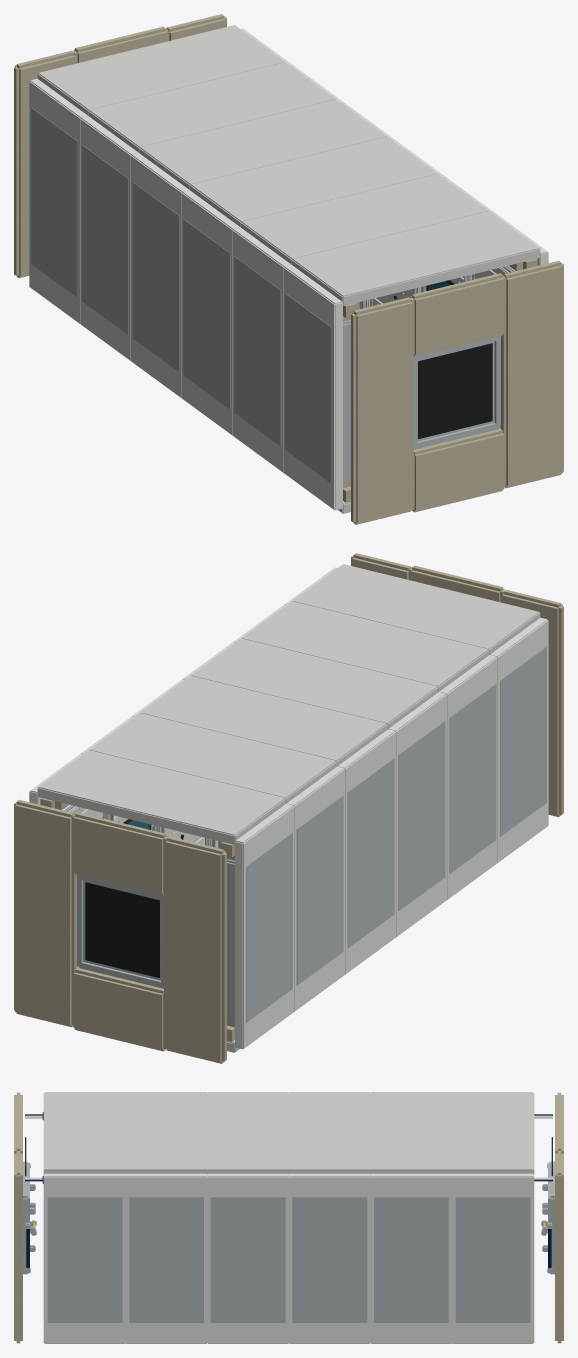
File: destiny_optimized.glb
The picture shows the model from 3 angles, top to bottom: view 1: azimuth 30°, elevation 25°; view 2: azimuth 150°, elevation 25°; view 3: azimuth 270°, elevation 25°; orthographic projection. The views are drawn at different scales.
Parts seen in each view (by area): view 1: destiny_interior; view 2: destiny_interior; view 3: destiny_interior.
Part boxes in pixels (x1=…): destiny_interior: x1=14, y1=14, x2=563, y2=524; destiny_interior: x1=14, y1=553, x2=563, y2=1063; destiny_interior: x1=14, y1=1092, x2=563, y2=1343.
Size of the model in its own units: 3.1 by 3 by 8.54.
15 materials, 3 textured.
